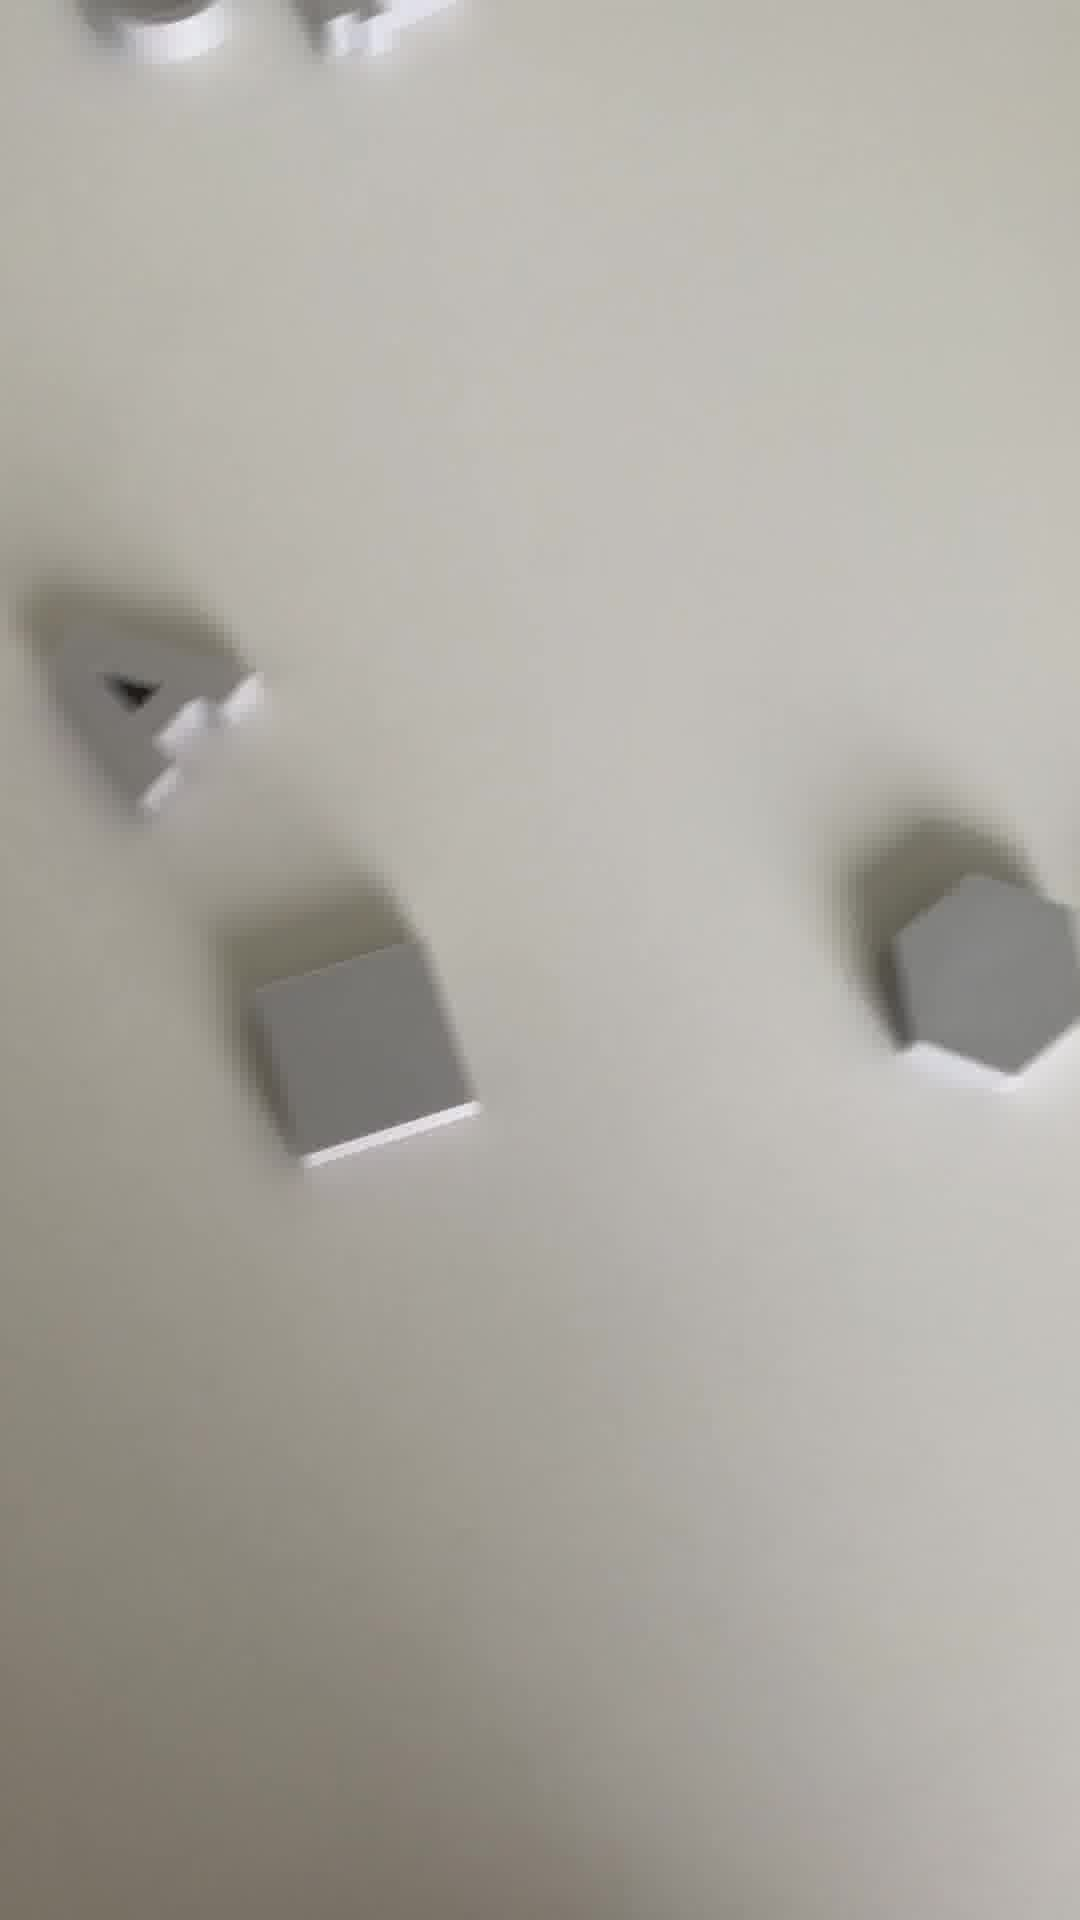Gray A-letter: (28, 582, 261, 832)
Gray hexagon: (869, 869, 1080, 1087)
Gray square: (228, 922, 506, 1183)
